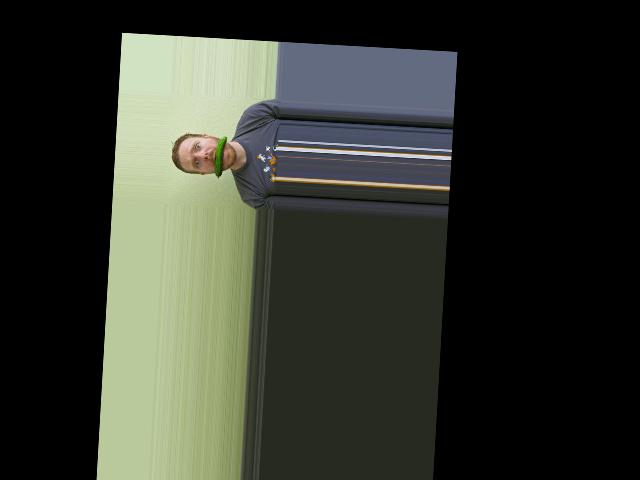cucumber: (214, 135, 227, 178)
